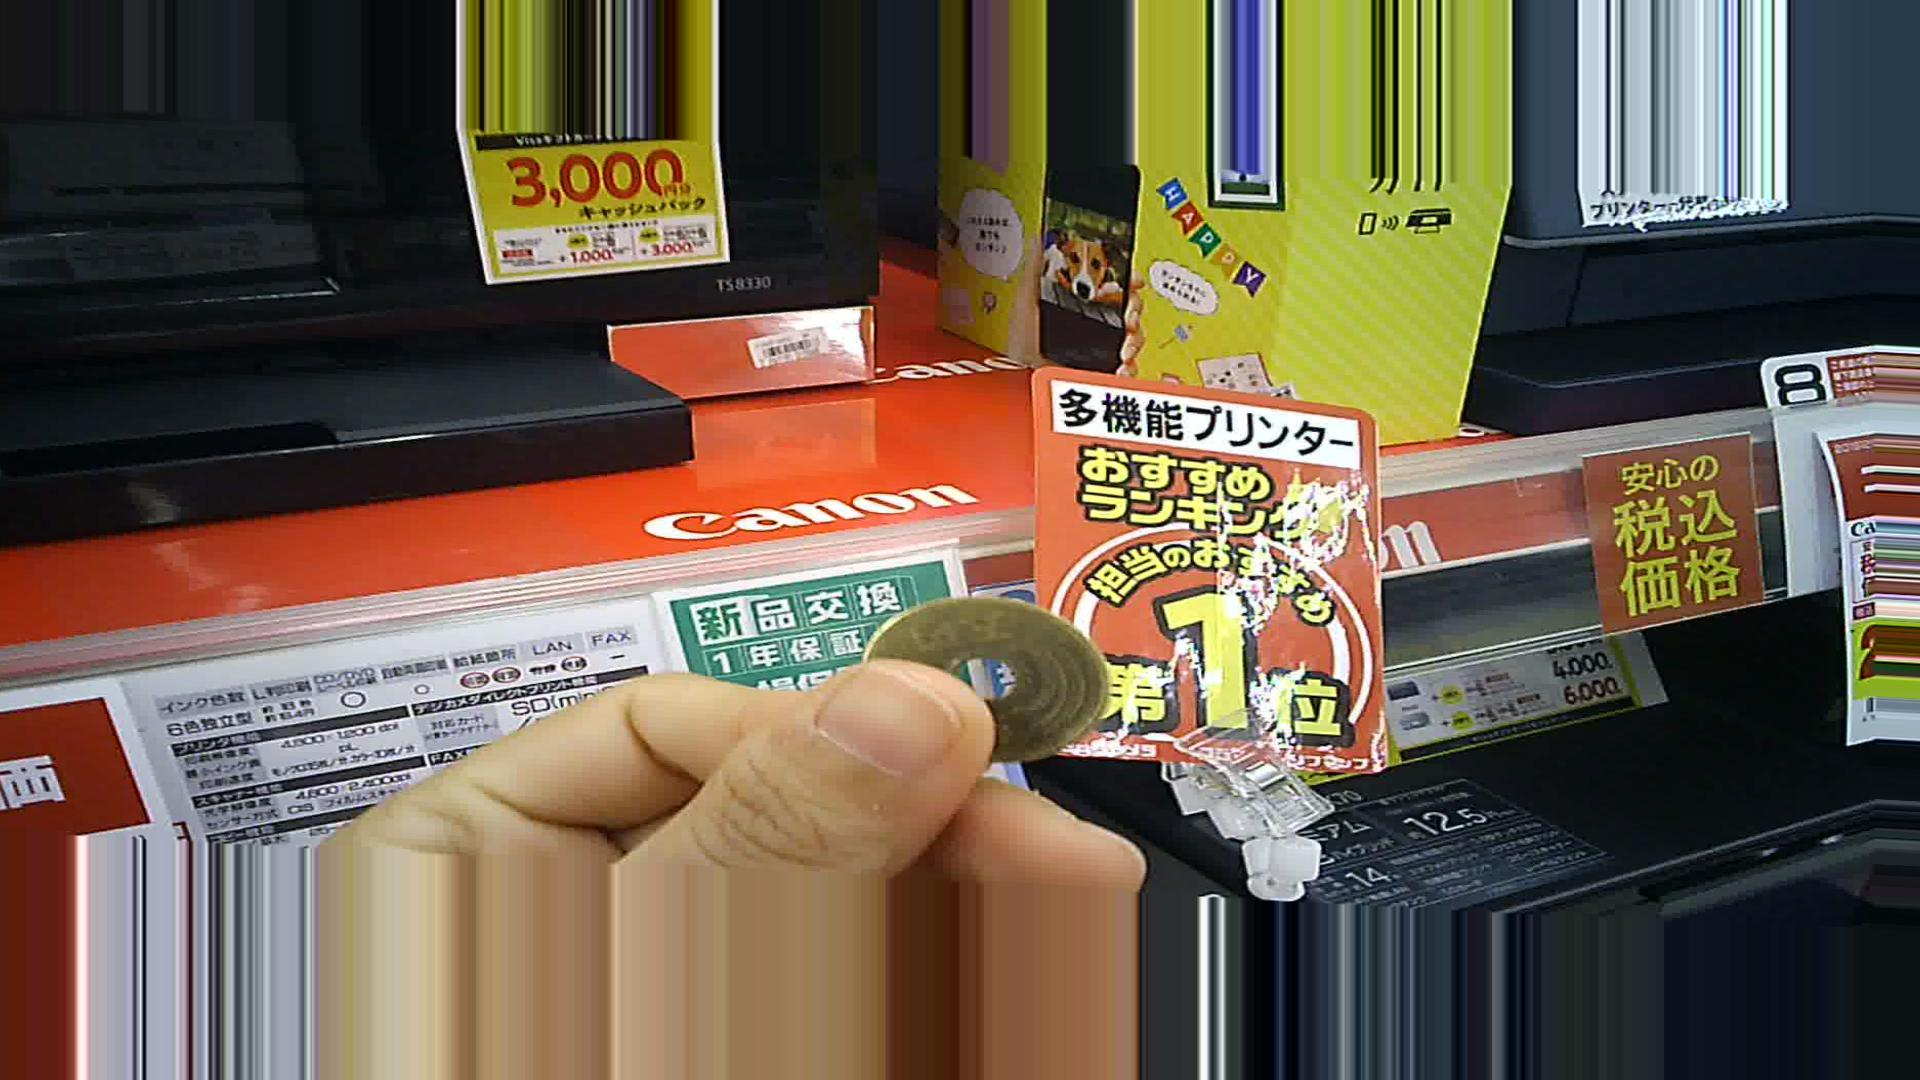5 Yen: (841, 595, 1114, 786)
